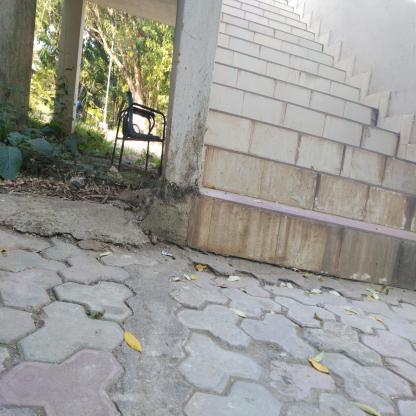stairs: (223, 17, 311, 290)
